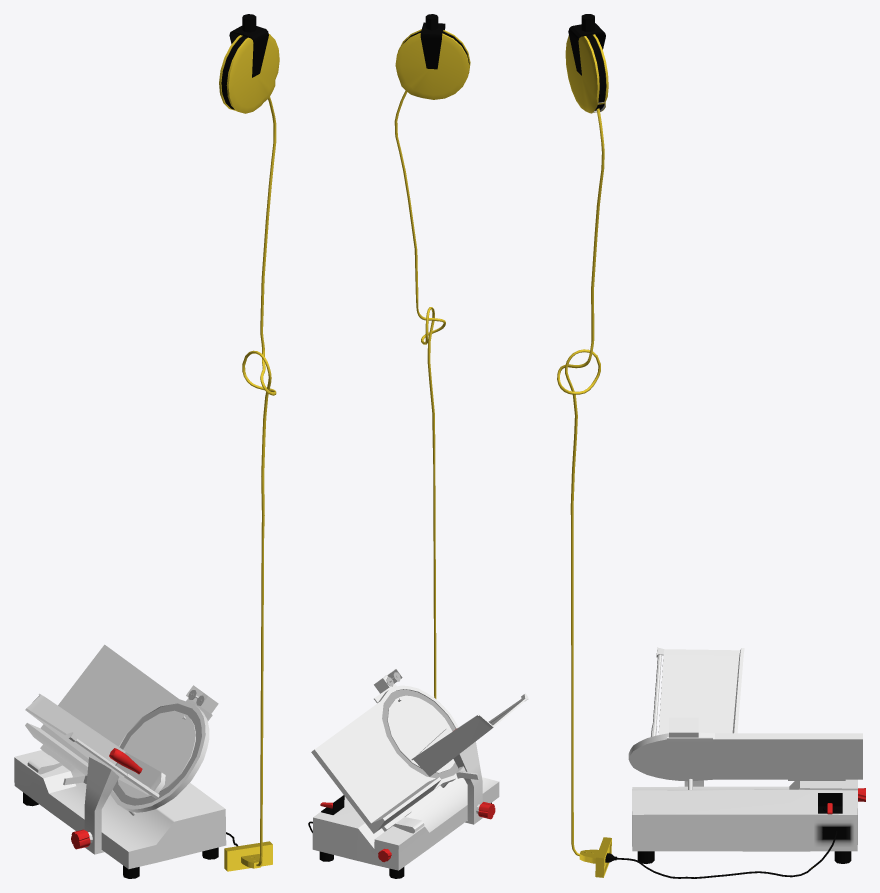
The model's file is food_slicer_hanging_socket.glb.
3 renders of one model, left to right at view 1: azimuth 30°, elevation 25°; view 2: azimuth 150°, elevation 25°; view 3: azimuth 270°, elevation 25°, orthographic. The views are drawn at different scales.
Parts seen in each view (by area): view 1: food_slicer_hanging_socket1; view 2: food_slicer_hanging_socket1; view 3: food_slicer_hanging_socket1.
Part boxes in pixels (x1,y1,x2,y2): food_slicer_hanging_socket1: [14, 14, 279, 878]; food_slicer_hanging_socket1: [308, 14, 528, 878]; food_slicer_hanging_socket1: [557, 14, 865, 878].
Size of the model in its own units: 0.9145 by 4.12 by 1.36.
Materials: 1 (1 with a texture image).
